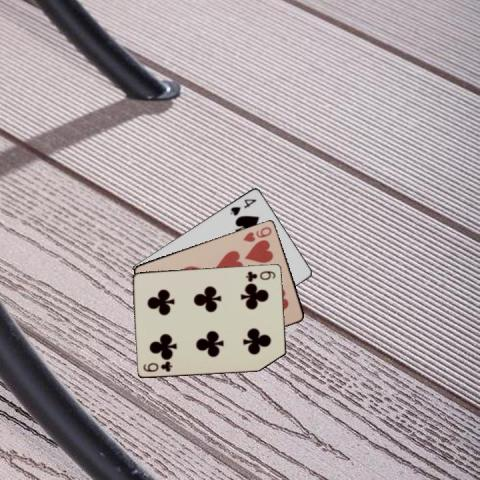4s: (227, 195, 258, 217)
6c: (243, 267, 276, 282), (141, 358, 173, 373)
9h: (240, 224, 273, 244)
